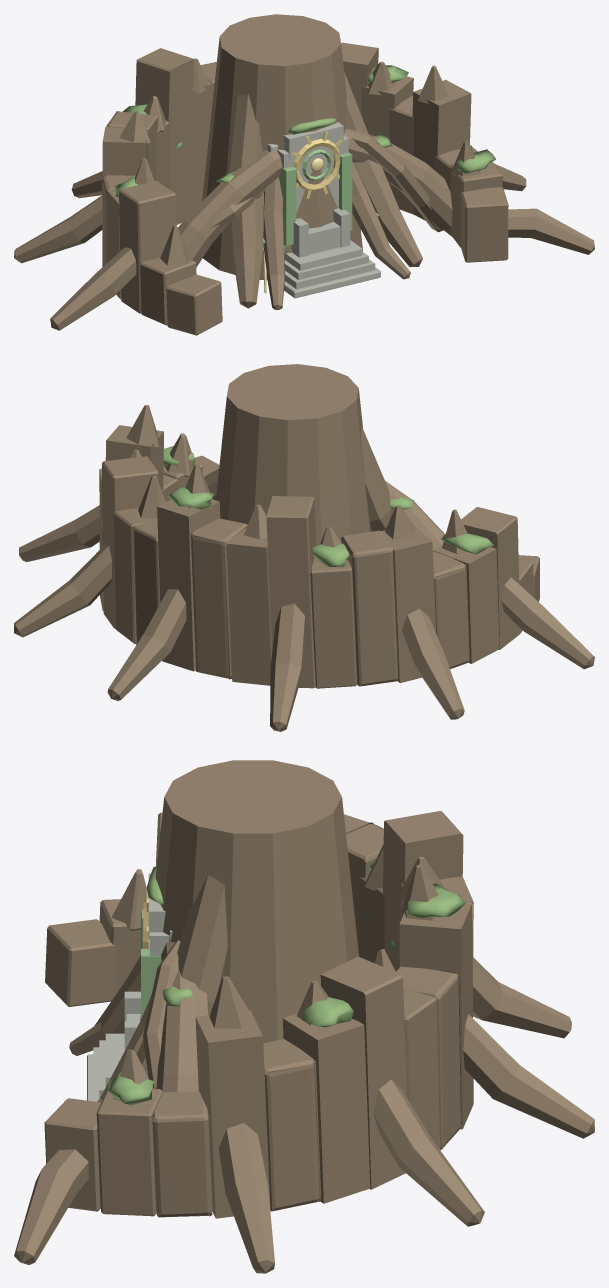
Rendered from VerdantF3Kit.fbx.
The picture shows the model from 3 angles, top to bottom: view 1: azimuth 30°, elevation 25°; view 2: azimuth 150°, elevation 25°; view 3: azimuth 270°, elevation 25°; orthographic projection. The views are drawn at different scales.
Parts seen in each view (by area): view 1: HollowStumpRim__WOOD, RootThrone__WOOD, RootBridgeArch__WOOD, RootThrone__TRIM, RootThrone__ACCENT, HollowStumpRim__MOSS, RootThrone__GOLD, RootThrone__MOSS; view 2: HollowStumpRim__WOOD, RootThrone__WOOD, HollowStumpRim__MOSS, RootBridgeArch__WOOD; view 3: HollowStumpRim__WOOD, RootThrone__WOOD, RootBridgeArch__WOOD, RootThrone__TRIM, HollowStumpRim__MOSS, RootThrone__ACCENT.
Part boxes in pixels (box(x1,y1,x2,y2)): HollowStumpRim__WOOD: box(14, 42, 594, 335); RootThrone__WOOD: box(202, 14, 422, 309); RootBridgeArch__WOOD: box(178, 128, 452, 266); RootThrone__TRIM: box(277, 122, 380, 298); RootThrone__ACCENT: box(279, 149, 352, 246); HollowStumpRim__MOSS: box(114, 65, 495, 197); RootThrone__GOLD: box(290, 131, 342, 198); RootThrone__MOSS: box(263, 118, 379, 243); HollowStumpRim__WOOD: box(14, 405, 594, 731); RootThrone__WOOD: box(216, 364, 391, 544); HollowStumpRim__MOSS: box(163, 446, 493, 566); RootBridgeArch__WOOD: box(204, 469, 444, 551); HollowStumpRim__WOOD: box(14, 811, 594, 1273); RootThrone__WOOD: box(69, 760, 358, 1102); RootBridgeArch__WOOD: box(143, 940, 211, 1092); RootThrone__TRIM: box(87, 873, 169, 1101); HollowStumpRim__MOSS: box(108, 860, 465, 1105); RootThrone__ACCENT: box(141, 910, 161, 1018).
Size of the model in its own units: 86.52 by 35.04 by 60.12.
